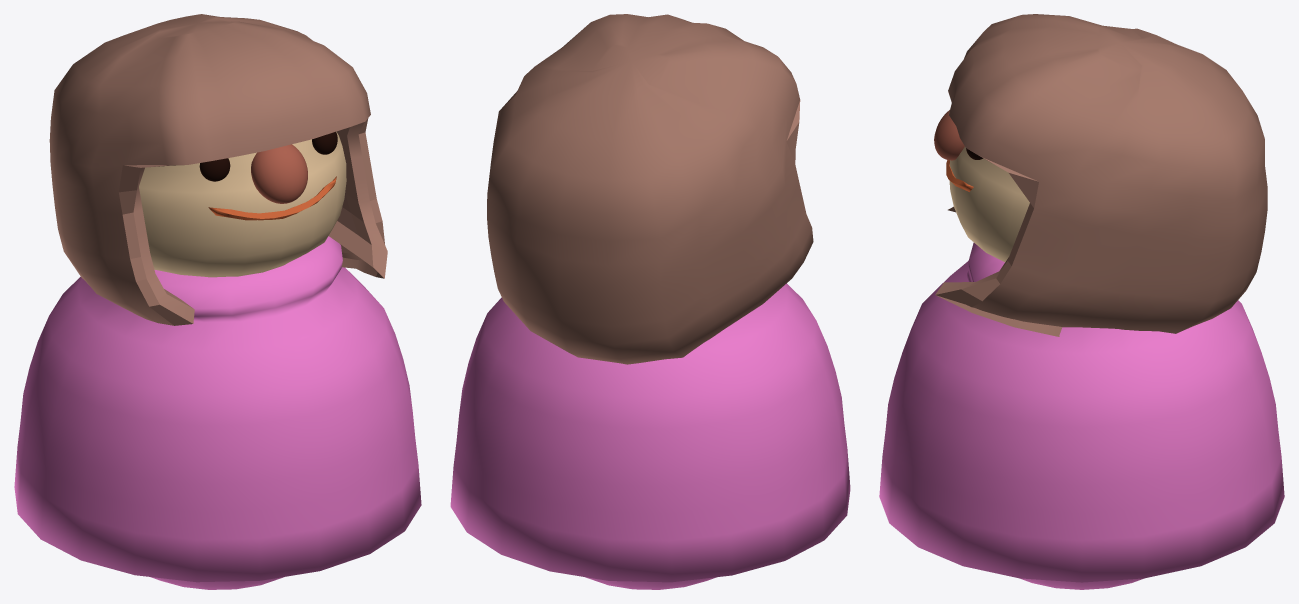
Rendered from NPC2.fbx.
3 views of the same model, side by side, from view 1: azimuth 30°, elevation 25°; view 2: azimuth 150°, elevation 25°; view 3: azimuth 270°, elevation 25° (orthographic).
Visible parts, largest first — view 1: pSphere7; view 2: pSphere7; view 3: pSphere7.
Part boxes in pixels (x1=…): pSphere7: x1=14, y1=14, x2=421, y2=589; pSphere7: x1=450, y1=14, x2=850, y2=589; pSphere7: x1=879, y1=14, x2=1284, y2=589.
Bounding box in the file's own units: 1.99 × 2.91 × 1.99.
